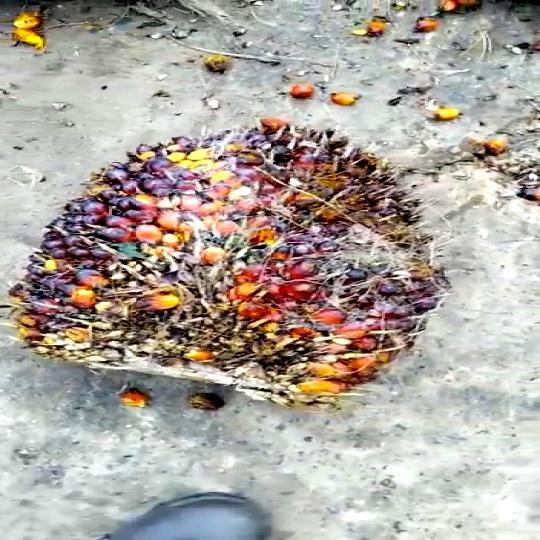masak: (16, 114, 442, 413)
